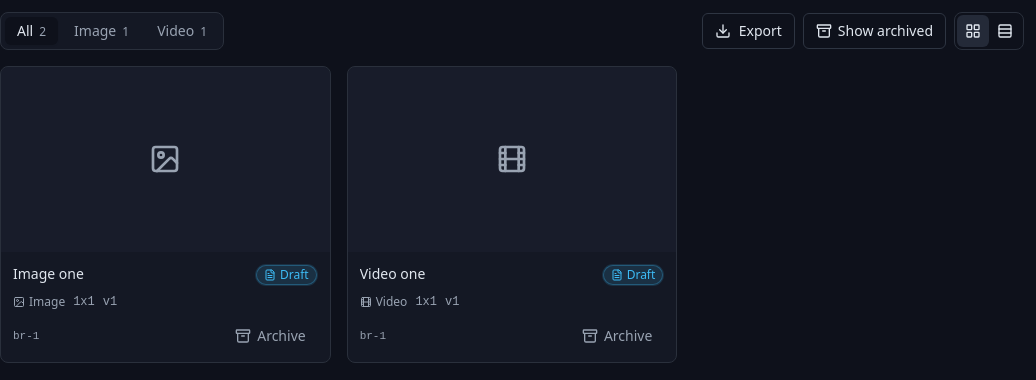
Scenario: CreativesGrid › filters by the Video tab
The width and height of the screenshot is (1036, 380).
Click the tab "video1". click: (182, 31)
box: left=145, top=17, right=219, bottom=45
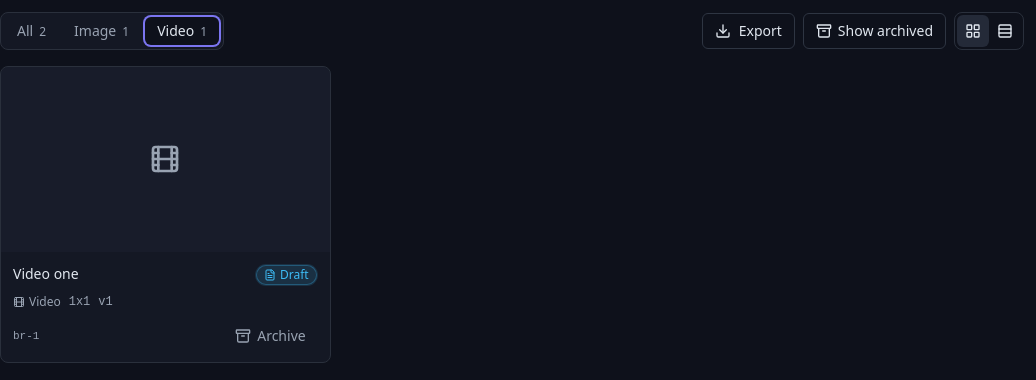
Expected: the link "Video one" is shown, left=13, top=264, right=79, bottom=284
Expected: the link "Image one" is gone
